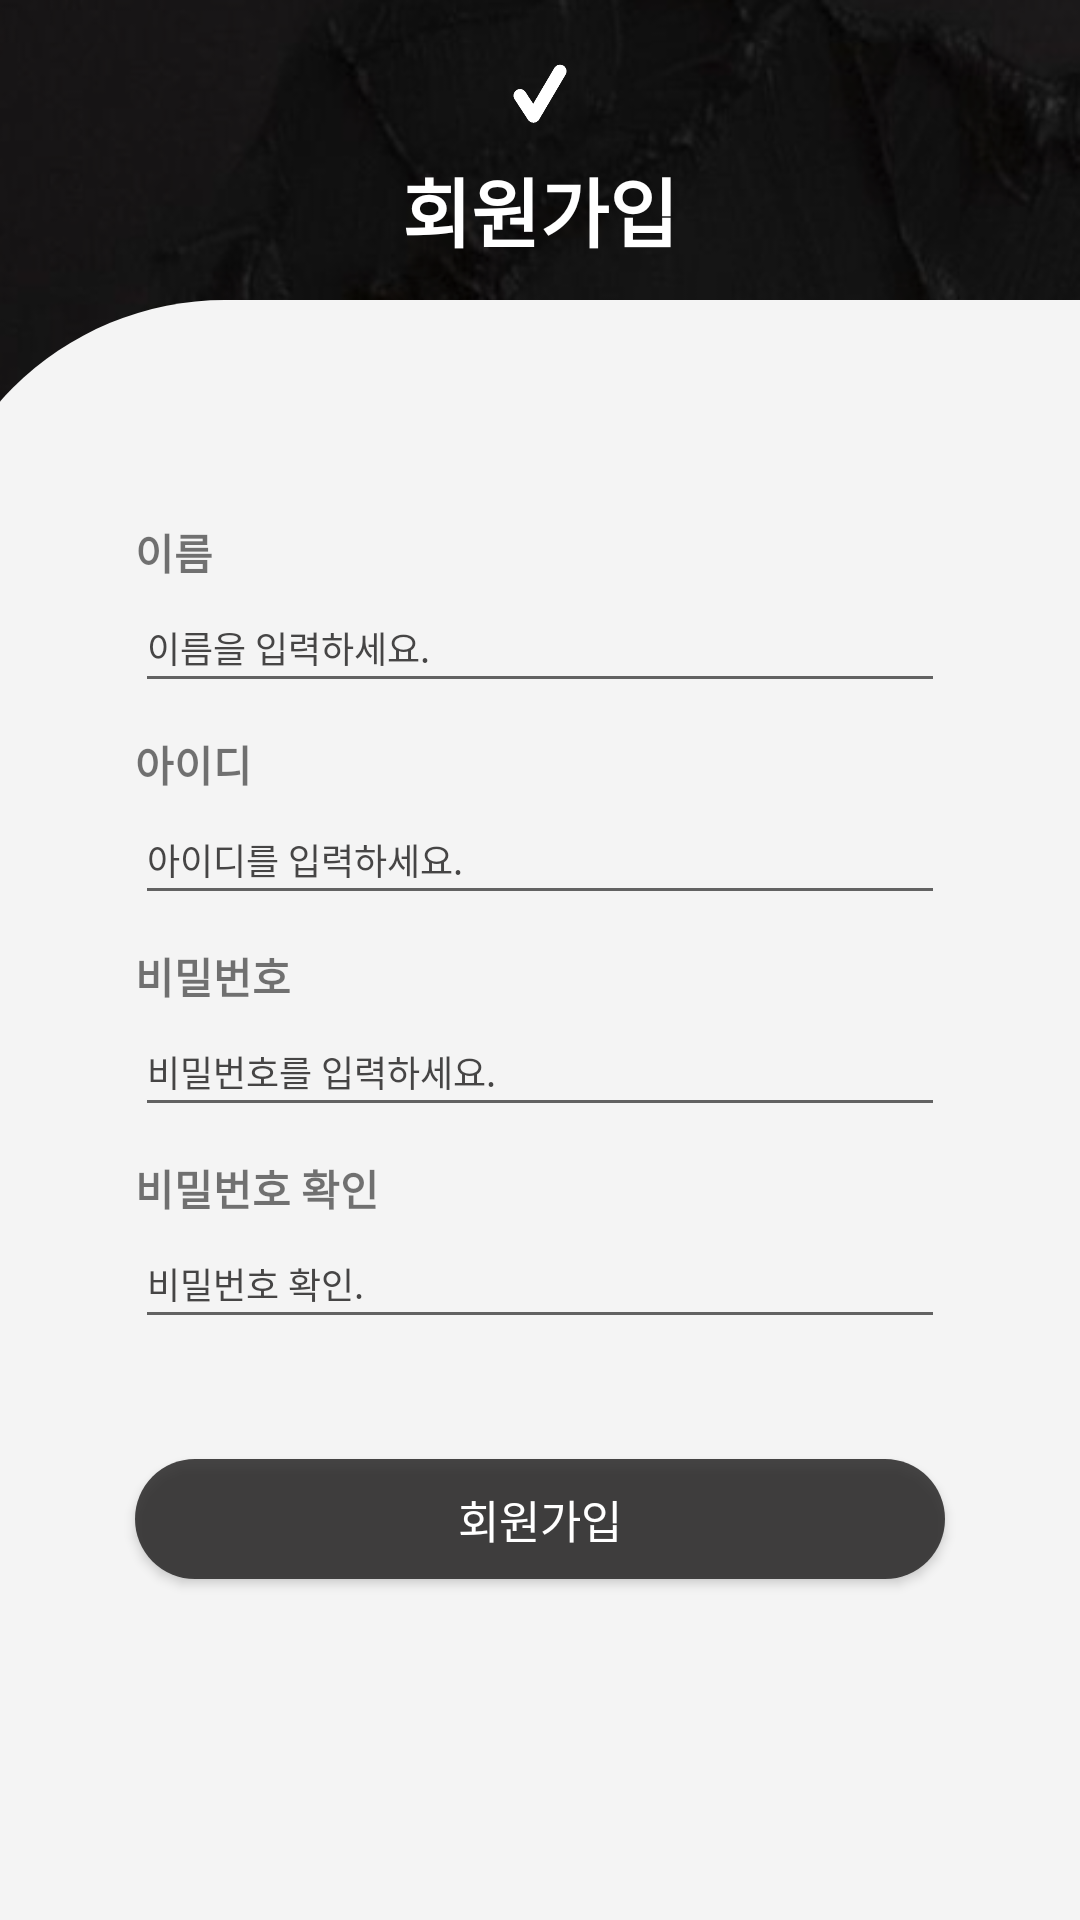

Named icons in this screenshot (1080×1920) and their centers, (x=x, y=y):
checkbox: (x=540, y=93)
